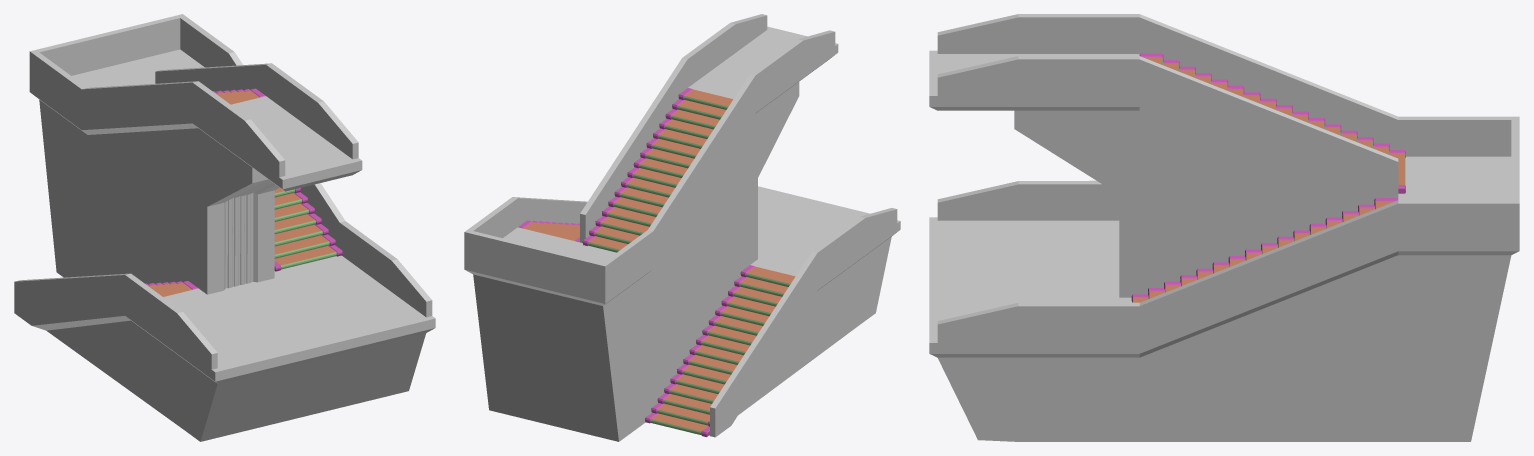
File: DivePlatform.fbx
The picture shows the model from 3 angles, left to right: view 1: azimuth 30°, elevation 25°; view 2: azimuth 150°, elevation 25°; view 3: azimuth 270°, elevation 25°; orthographic projection. The views are drawn at different scales.
Parts seen in each view (by area): view 1: DivePlatform; view 2: DivePlatform; view 3: DivePlatform.
Boxes of the visible parts, x1,y1,x2,y2 form: DivePlatform: [14, 14, 435, 441]; DivePlatform: [464, 14, 900, 441]; DivePlatform: [929, 14, 1519, 441].
Bounding box in the file's own units: 7.35 × 9.4 × 14.6.
